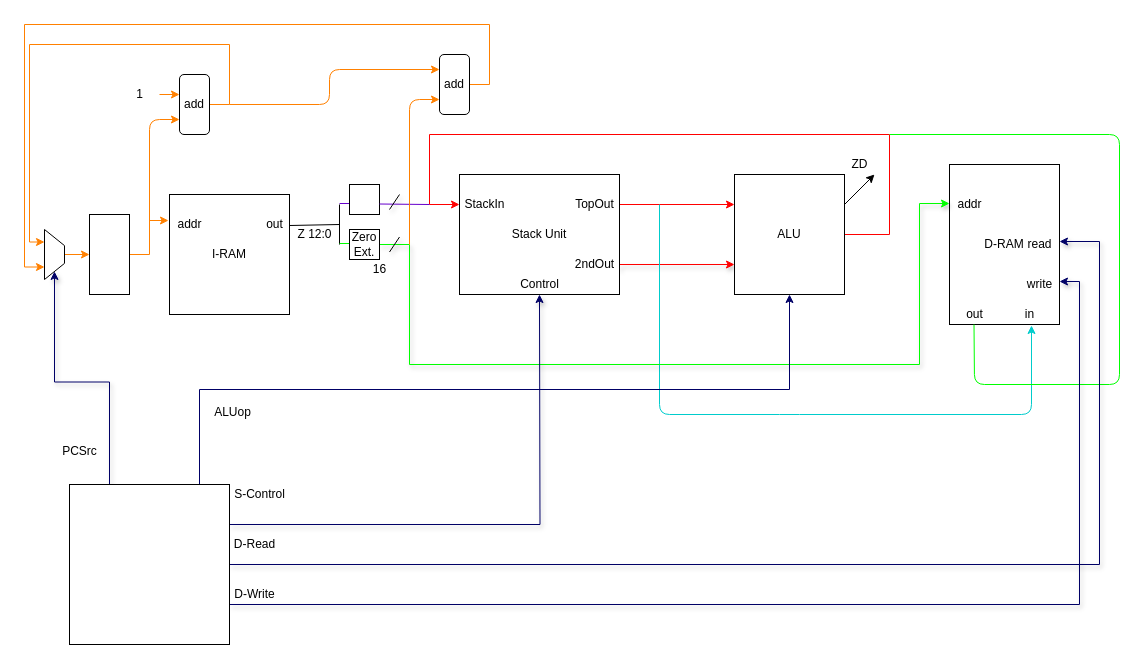
The diagram is 1138 pixels wide and 662 high, and some of its shapes have lost their labels. The shapes that lost their labels are listed below. From the top down, each one's centre as x and y in pixels, then its label:
pixel 364 199: Sign Ext.
pixel 109 254: PC
pixel 149 564: Control Unit
